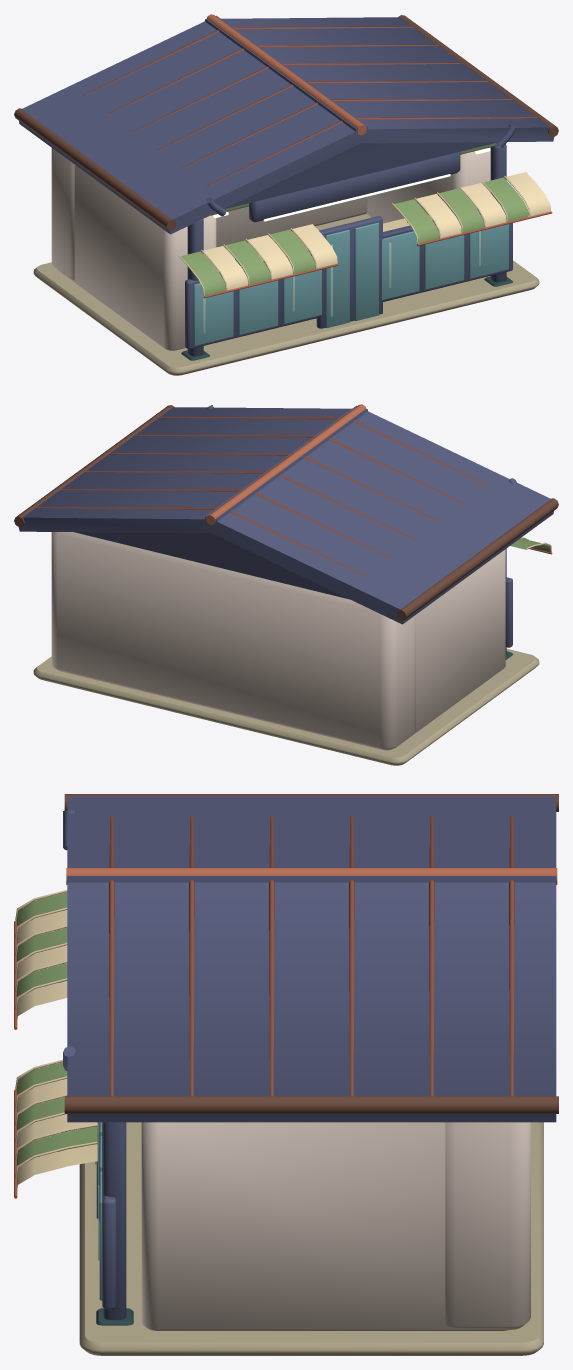
File: japan_market.glb
3 renders of one model, top to bottom at view 1: azimuth 30°, elevation 25°; view 2: azimuth 150°, elevation 25°; view 3: azimuth 270°, elevation 25°, orthographic. The views are drawn at different scales.
Parts seen in each view (by area): view 1: JapanMarket; view 2: JapanMarket; view 3: JapanMarket.
Part boxes in pixels (box(x1,y1,x2,y2)): JapanMarket: box(14, 14, 558, 375); JapanMarket: box(14, 404, 558, 765); JapanMarket: box(14, 794, 558, 1355).
Size of the model in its own units: 8.09 by 4.17 by 6.01.
